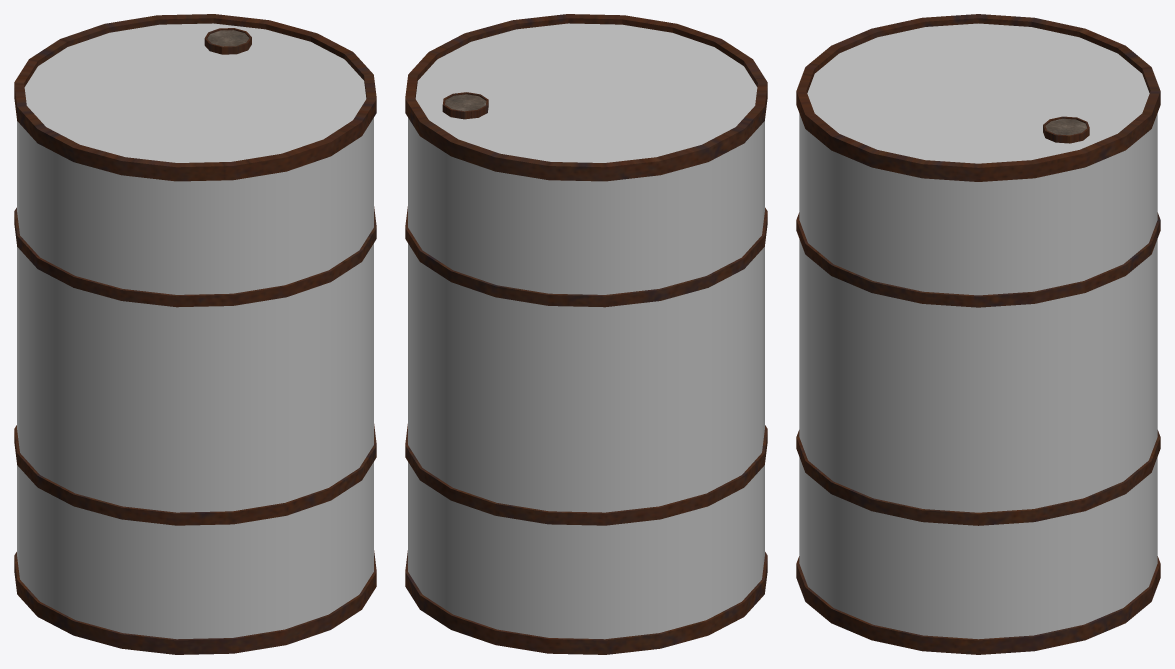
The model's file is TunnaBlå.fbx.
3 views of the same model, side by side, from view 1: azimuth 30°, elevation 25°; view 2: azimuth 150°, elevation 25°; view 3: azimuth 270°, elevation 25° (orthographic).
Visible parts, largest first — view 1: pasted__Barrel1; view 2: pasted__Barrel1; view 3: pasted__Barrel1.
Boxes of the visible parts, box(x1,y1,x2,y2) form: pasted__Barrel1: box(14, 14, 376, 654); pasted__Barrel1: box(405, 14, 767, 654); pasted__Barrel1: box(796, 14, 1160, 654).
Bounding box in the file's own units: 6.48 × 9.61 × 6.48.
